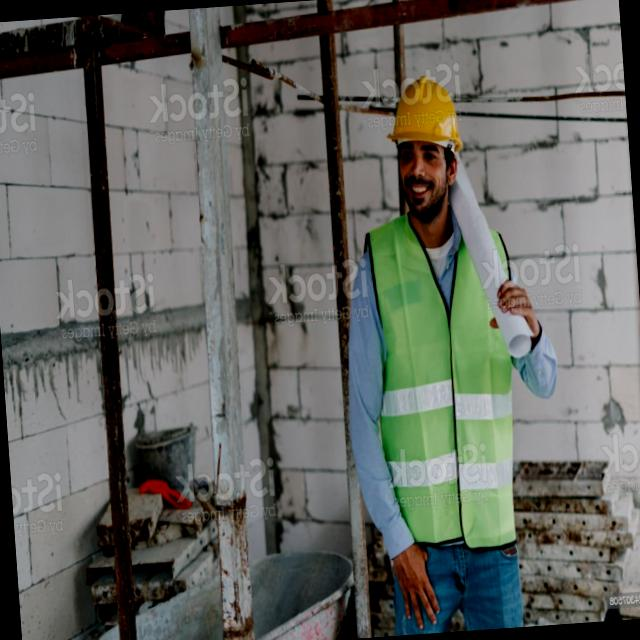helmet: (375, 66, 474, 149)
vest: (354, 188, 540, 550)
